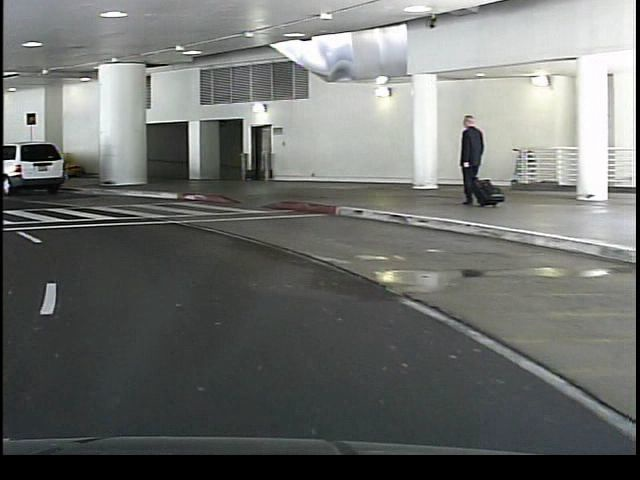person: (449, 111, 482, 208)
